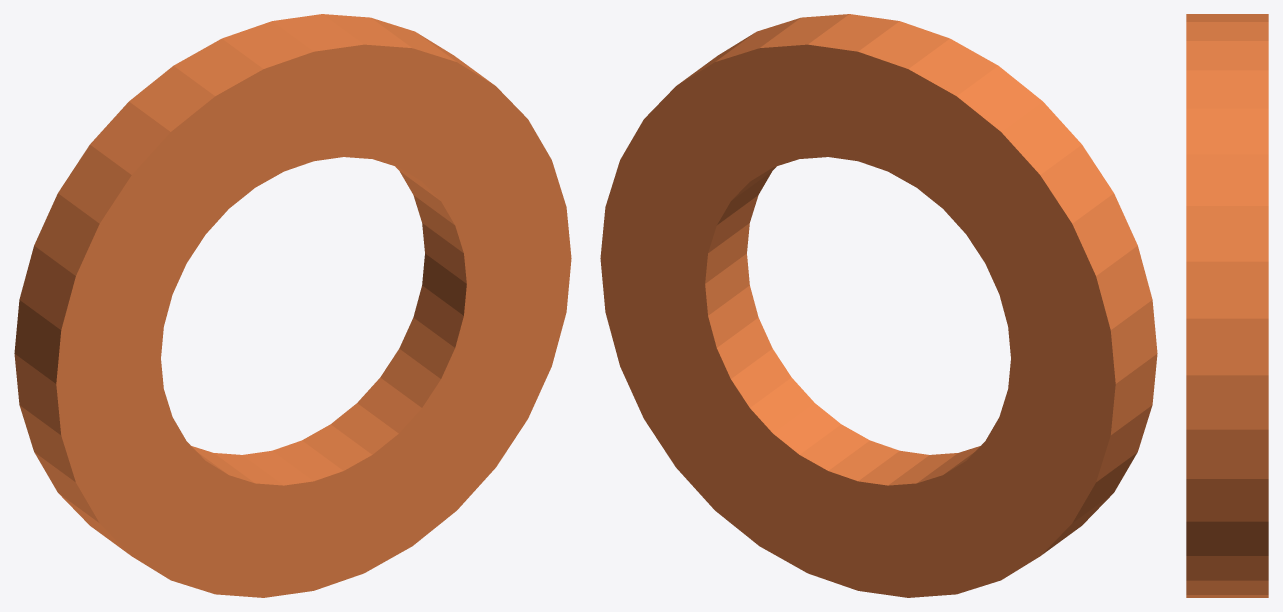
Rendered from powerboat-racing-and-launch-ramp-lifebuoy-a7f594a6__22295.glb.
3 views of the same model, side by side, from view 1: azimuth 30°, elevation 25°; view 2: azimuth 150°, elevation 25°; view 3: azimuth 270°, elevation 25° (orthographic).
Visible parts, largest first — view 1: lifebuoy; view 2: lifebuoy; view 3: lifebuoy.
Boxes of the visible parts, bbox=[...] form: lifebuoy: bbox=[14, 14, 571, 597]; lifebuoy: bbox=[600, 14, 1157, 597]; lifebuoy: bbox=[1186, 14, 1268, 597].
Bounding box in the file's own units: 0.64 × 0.64 × 0.09.
